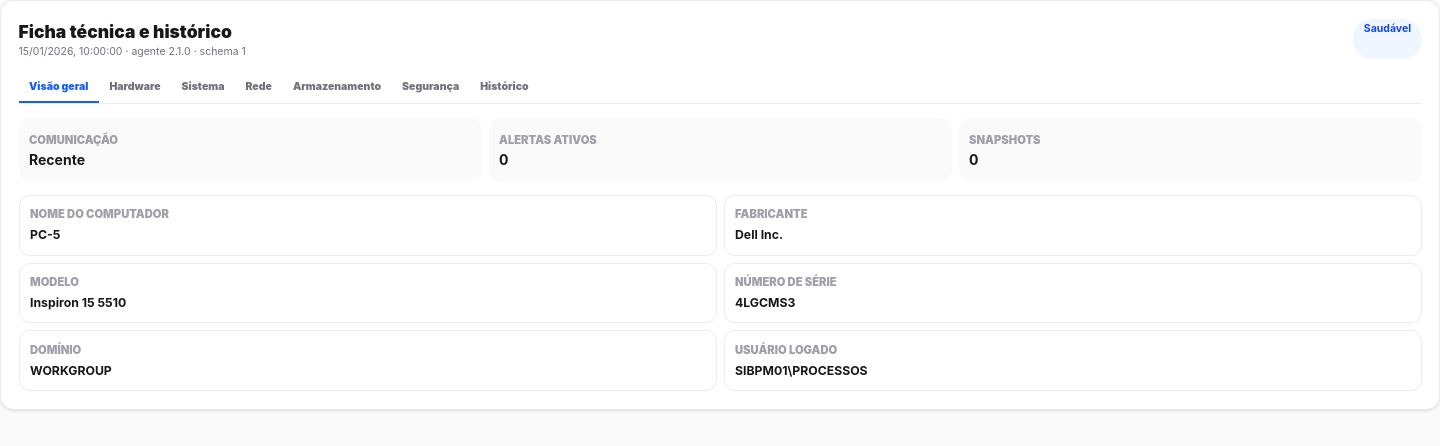
it: Hardware: capacidade do módulo de memória aparece em GB, não o número de bytes cru
The width and height of the screenshot is (1440, 446).
Step 1. Click the button "Hardware" → (135,88), box [99,73,171,103]
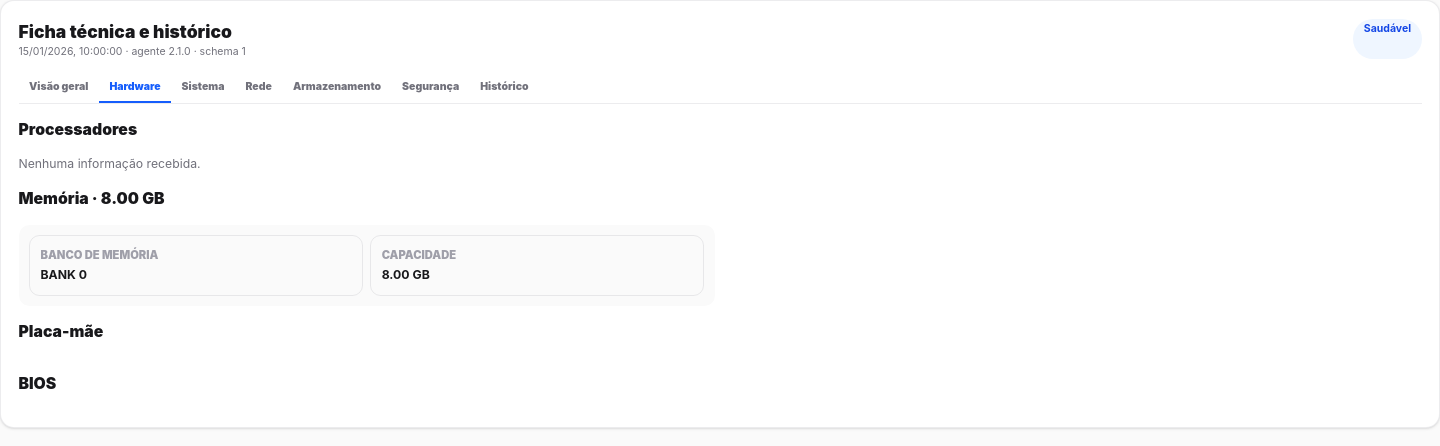
expect the text "8.00 GB" is shown: met, box [101,189,165,208]
